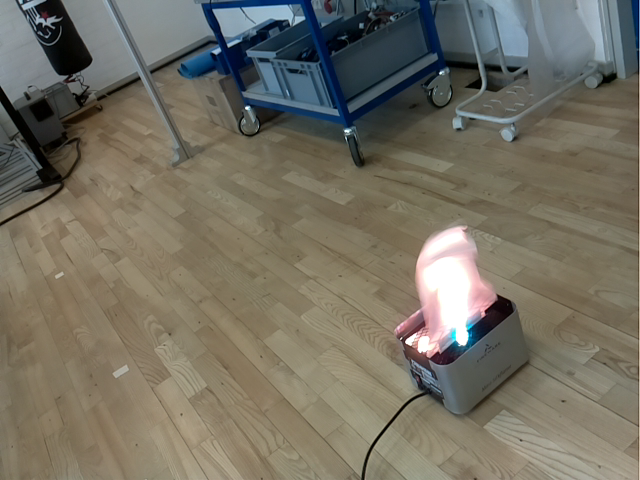fire: (414, 225, 498, 358)
